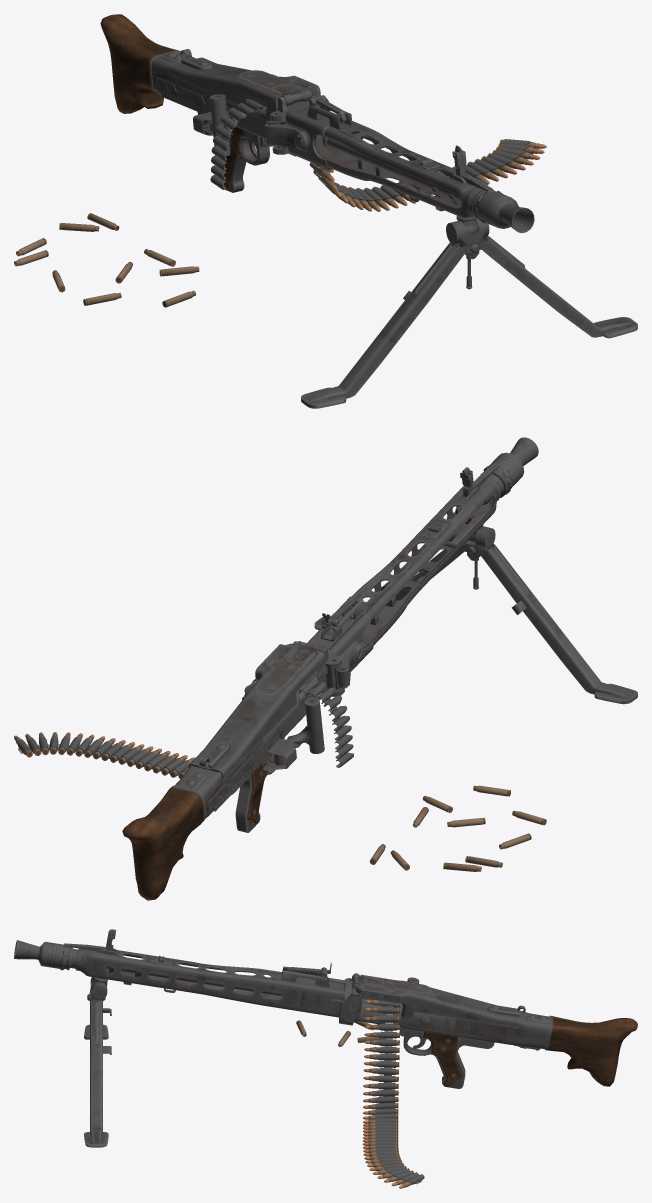
Rendered from maschinengewehr_mg_42.glb.
3 renders of one model, top to bottom at view 1: azimuth 30°, elevation 25°; view 2: azimuth 150°, elevation 25°; view 3: azimuth 270°, elevation 25°, orthographic. The views are drawn at different scales.
Visible parts, largest first — view 1: MG42Body_Low.003, MG42Body_Low.002, BezierCurve.003, Plane.006, BezierCurve.004; view 2: MG42Body_Low.003, MG42Body_Low.002, BezierCurve.003, Plane.006, BezierCurve.004; view 3: MG42Body_Low.003, BezierCurve.003, MG42Body_Low.002, Plane.006.
Boxes of the visible parts, x1=… form: MG42Body_Low.003: x1=100, y1=14, x2=534, y2=234; MG42Body_Low.002: x1=301, y1=218, x2=637, y2=408; BezierCurve.003: x1=309, y1=139, x2=546, y2=211; Plane.006: x1=14, y1=213, x2=199, y2=307; BezierCurve.004: x1=210, y1=99, x2=263, y2=189; MG42Body_Low.003: x1=122, y1=437, x2=538, y2=900; MG42Body_Low.002: x1=314, y1=526, x2=637, y2=704; BezierCurve.003: x1=14, y1=679, x2=257, y2=778; Plane.006: x1=369, y1=785, x2=546, y2=871; BezierCurve.004: x1=299, y1=677, x2=353, y2=767; MG42Body_Low.003: x1=14, y1=929, x2=637, y2=1088; BezierCurve.003: x1=362, y1=998, x2=424, y2=1188; MG42Body_Low.002: x1=84, y1=977, x2=111, y2=1147; Plane.006: x1=296, y1=1020, x2=384, y2=1046.
Size of the model in its own units: 0.8783 by 0.3428 by 1.22.
3 materials, 3 textured.
